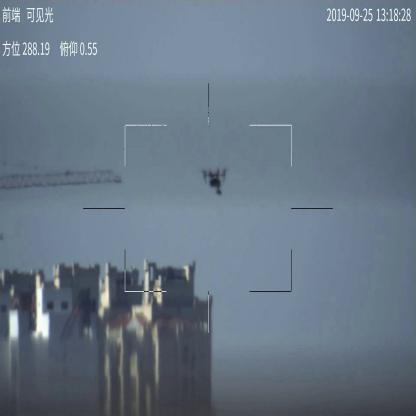uav: (201, 167, 230, 197)
